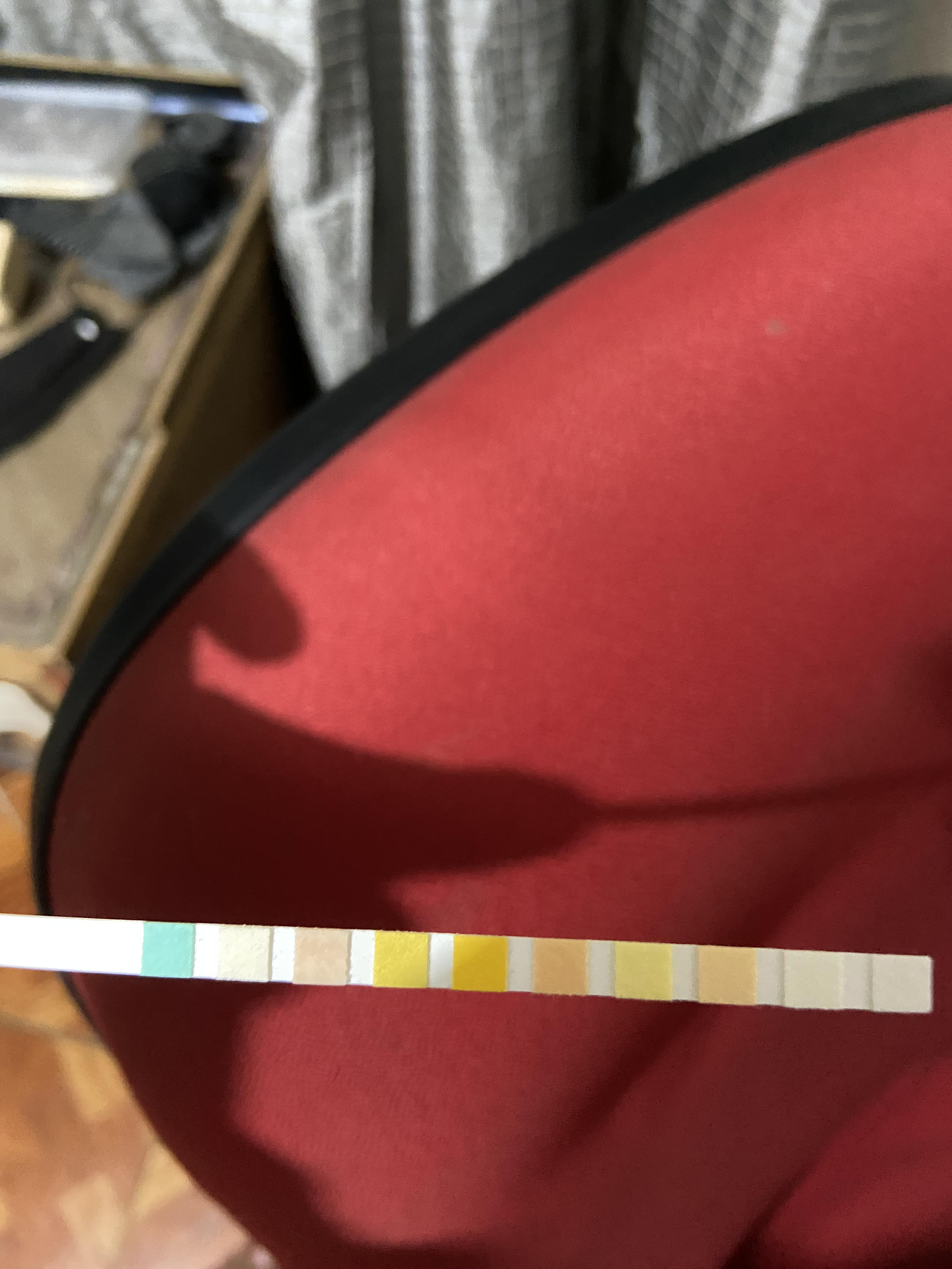Bilirubin: (221, 927, 269, 981)
Blood: (455, 936, 505, 991)
Glucose: (144, 925, 191, 977)
Ketone: (297, 929, 347, 984)
Leukocytes: (875, 957, 928, 1011)
Nitrite: (787, 952, 842, 1006)
Protein: (616, 944, 669, 996)
SpGravity: (376, 932, 429, 988)
Urobilinogen: (700, 949, 754, 1002)
pH: (533, 941, 585, 993)
strip: (0, 916, 934, 1012)
